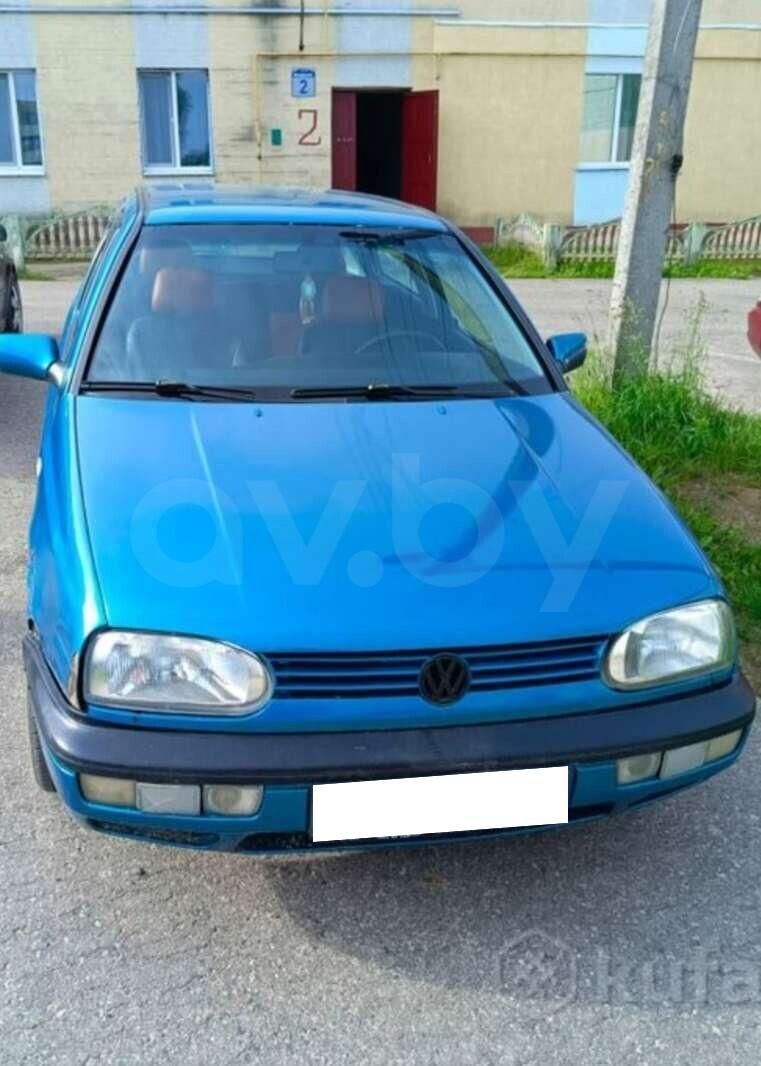Golf_1991-2000: (14, 186, 761, 849)
